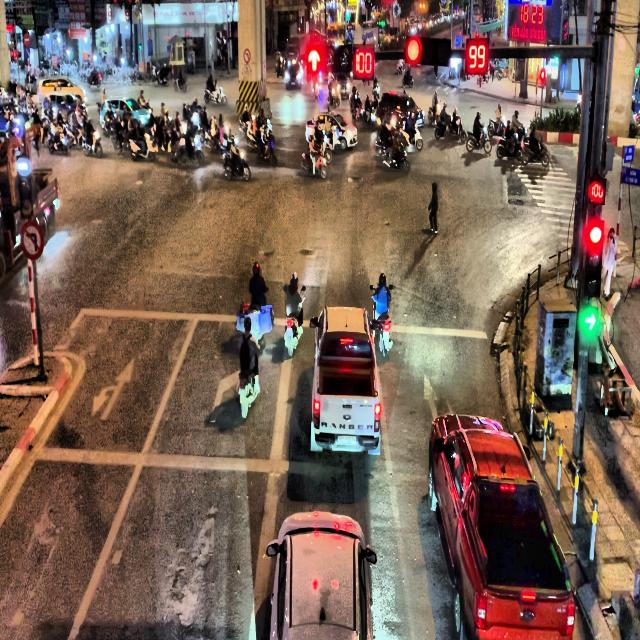CAR: (428, 414, 576, 640), (266, 510, 376, 640), (309, 305, 382, 455), (0, 158, 59, 281), (98, 97, 154, 136), (305, 111, 358, 152), (376, 92, 425, 130), (37, 76, 87, 107), (328, 72, 352, 100), (284, 58, 303, 89)
MOTORBIKE: (369, 284, 393, 357), (375, 137, 410, 174), (170, 130, 204, 165), (302, 137, 327, 178), (496, 126, 525, 161), (222, 147, 250, 181), (521, 134, 549, 167), (129, 132, 156, 161), (466, 125, 492, 154), (397, 122, 423, 151), (48, 126, 69, 154), (82, 130, 102, 158), (112, 125, 130, 152), (204, 85, 226, 105), (487, 116, 507, 138), (152, 64, 169, 86), (350, 97, 363, 122), (362, 103, 376, 124), (428, 103, 441, 125), (174, 76, 187, 92), (476, 72, 489, 87), (402, 72, 413, 88)
